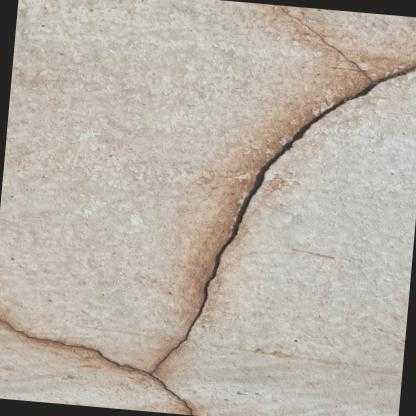crack: (0, 65, 416, 416)
